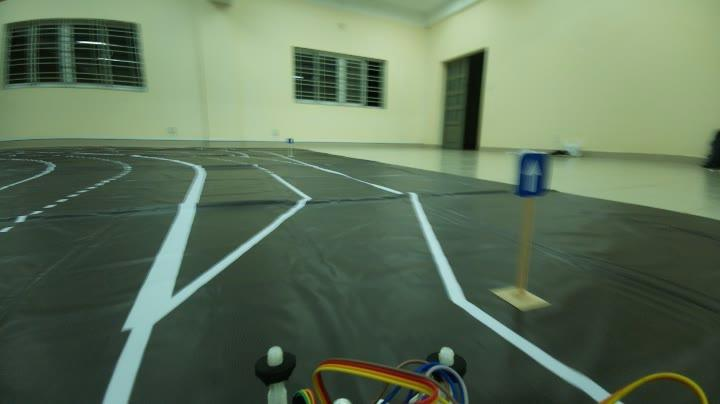onewayroad: (516, 148, 552, 200)
